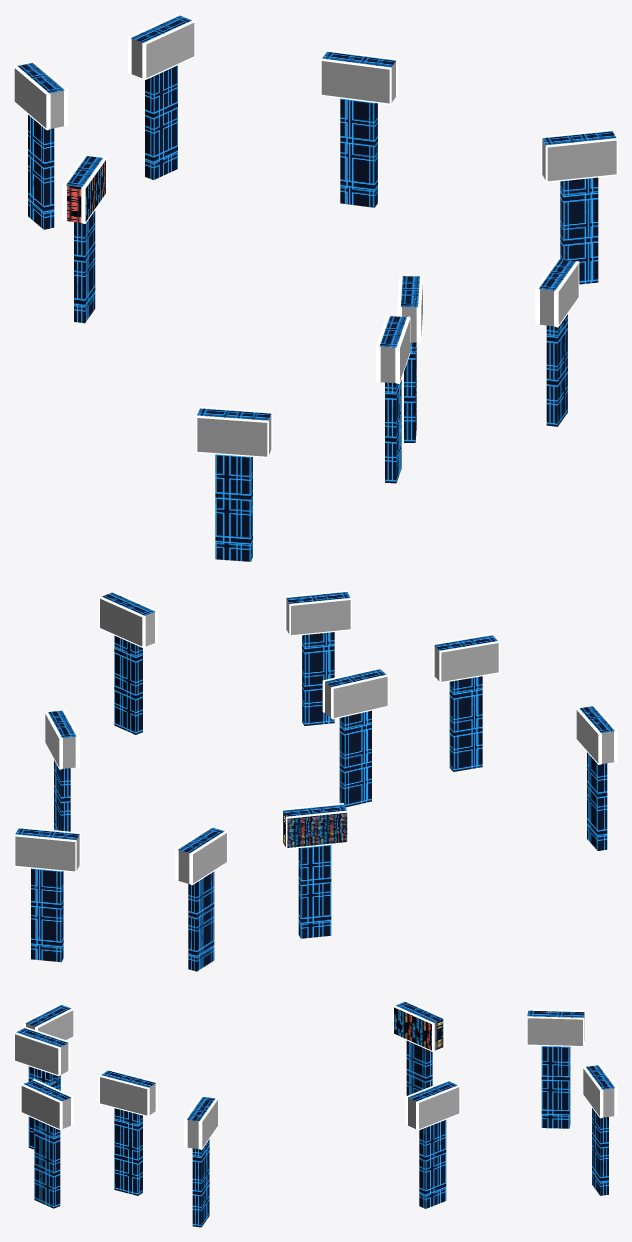
Rendered from posters.fbx.
The picture shows the model from 3 angles, top to bottom: view 1: azimuth 30°, elevation 25°; view 2: azimuth 150°, elevation 25°; view 3: azimuth 270°, elevation 25°; orthographic projection. The views are drawn at different scales.
Parts seen in each view (by area): view 1: poster_08, poster_01, poster_04, poster_02, poster_09, poster_03, poster_06, poster_07, poster_05, neon08, neon06, neon03 (+3 smaller); view 2: poster_03, poster_07, poster_02, poster_05, poster_06, poster_04, poster_09, poster_08, poster_01, neon04, neon01, neon06 (+6 smaller); view 3: poster_09, poster_05, poster_01, poster_06, poster_03, poster_04, poster_02, poster_07, poster_08, neon05, neon09, neon01 (+5 smaller).
Boxes of the visible parts, x1,y1,x2,y2 form: poster_08: (197, 408, 271, 561); poster_01: (321, 51, 395, 207); poster_04: (542, 131, 616, 284); poster_02: (131, 15, 194, 180); poster_09: (14, 63, 64, 229); poster_03: (66, 156, 105, 323); poster_06: (539, 259, 578, 426); poster_07: (379, 316, 409, 483); poster_05: (400, 276, 422, 442); neon08: (127, 14, 195, 79); neon06: (540, 129, 617, 182); neon03: (195, 406, 272, 457); poster_03: (283, 804, 347, 938); poster_07: (434, 635, 498, 771); poster_02: (15, 828, 79, 962); poster_05: (325, 669, 387, 807); poster_06: (286, 592, 350, 725); poster_04: (100, 592, 155, 734); poster_09: (178, 827, 226, 971); poster_08: (576, 706, 614, 850); poster_01: (45, 710, 76, 831); neon04: (432, 633, 499, 683); neon01: (322, 667, 388, 719); neon06: (99, 591, 158, 648); poster_09: (527, 1010, 584, 1128); poster_05: (100, 1070, 155, 1195); poster_01: (408, 1081, 459, 1208); poster_06: (21, 1080, 71, 1208); poster_03: (394, 1002, 443, 1095); poster_04: (187, 1096, 217, 1227); poster_02: (583, 1065, 614, 1195); poster_07: (15, 1028, 68, 1149); poster_08: (25, 1005, 73, 1090); neon05: (20, 1079, 73, 1130); neon09: (405, 1080, 460, 1130); neon01: (99, 1069, 157, 1116).
Size of the model in its own units: 616 by 279 by 813.
